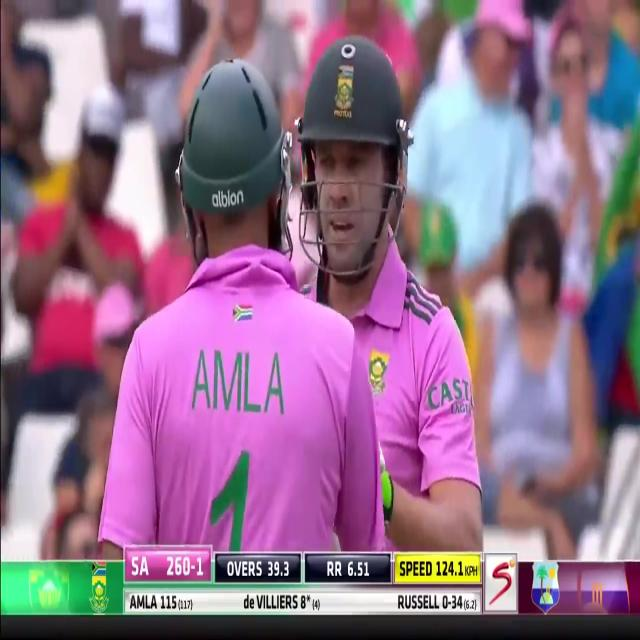Ball: (100, 48, 391, 556), (288, 52, 495, 554)
